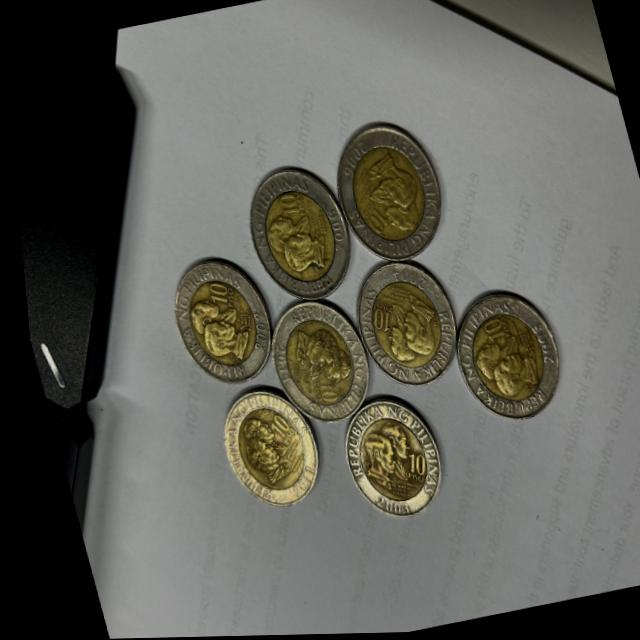10_Old_Front: (306, 377, 333, 409), (394, 445, 418, 481), (271, 191, 298, 223), (357, 206, 383, 239), (362, 304, 387, 336), (201, 277, 226, 308), (473, 316, 499, 345), (259, 415, 281, 441)
